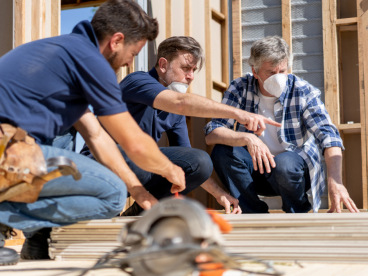Mask: (263, 72, 289, 96), (167, 78, 193, 94)
